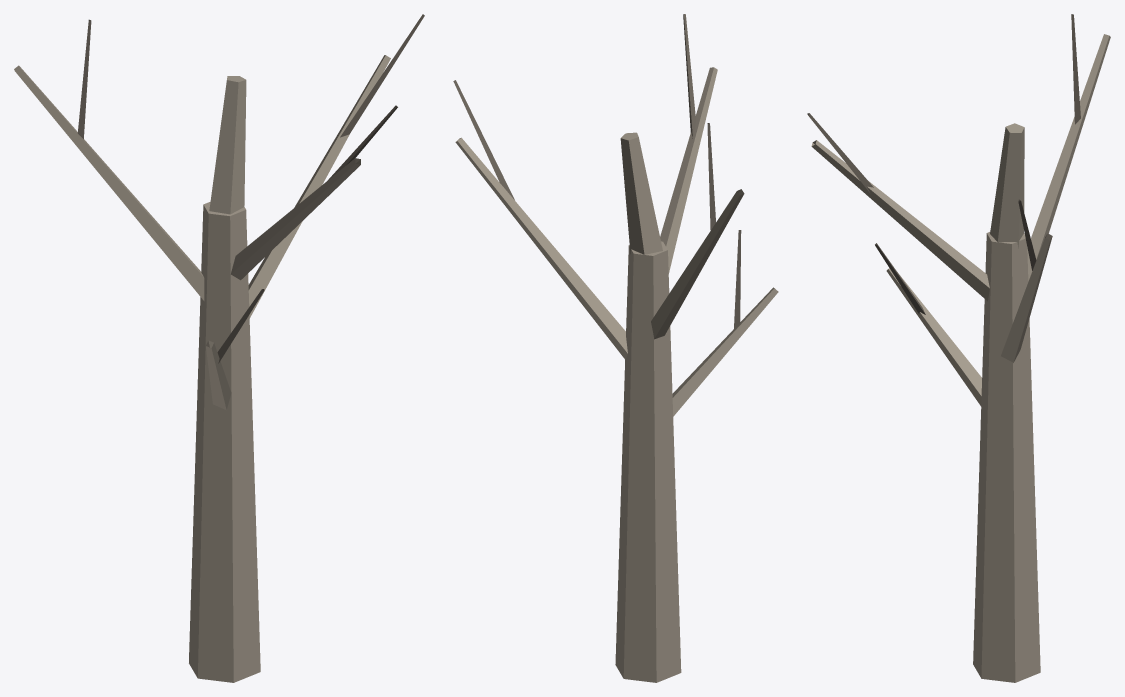
Rendered from mort_feuillu.glb.
The picture shows the model from 3 angles, left to right: view 1: azimuth 30°, elevation 25°; view 2: azimuth 150°, elevation 25°; view 3: azimuth 270°, elevation 25°; orthographic projection. The views are drawn at different scales.
Visible parts, largest first — view 1: mort_feuillu; view 2: mort_feuillu; view 3: mort_feuillu.
Part boxes in pixels (bbox=[...]): mort_feuillu: bbox=[14, 14, 424, 682]; mort_feuillu: bbox=[453, 14, 778, 682]; mort_feuillu: bbox=[807, 14, 1110, 682].
Size of the model in its own units: 4.71 by 8 by 3.62.
1 material, 1 textured.
